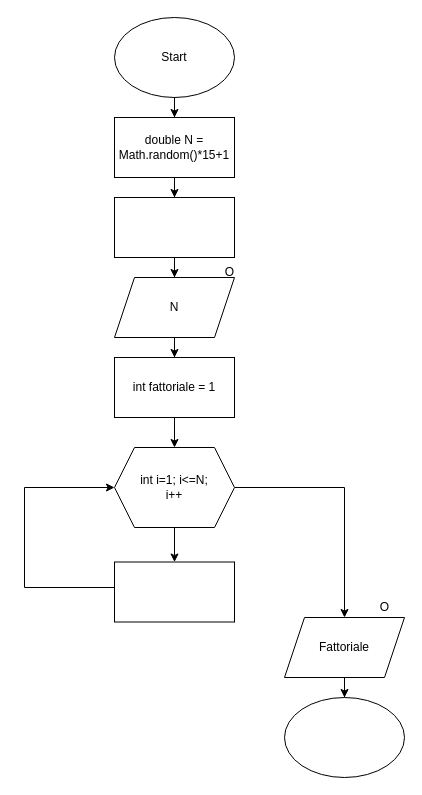
This 422x795 diagram has some shape labels left out. The shapes that lost their labels are listed below. From the top down, each one's centre as x and y in pixels, then its label:
the point at 174,227: N=(int)N
the point at 174,591: fattoriale *= i
the point at 344,737: End
